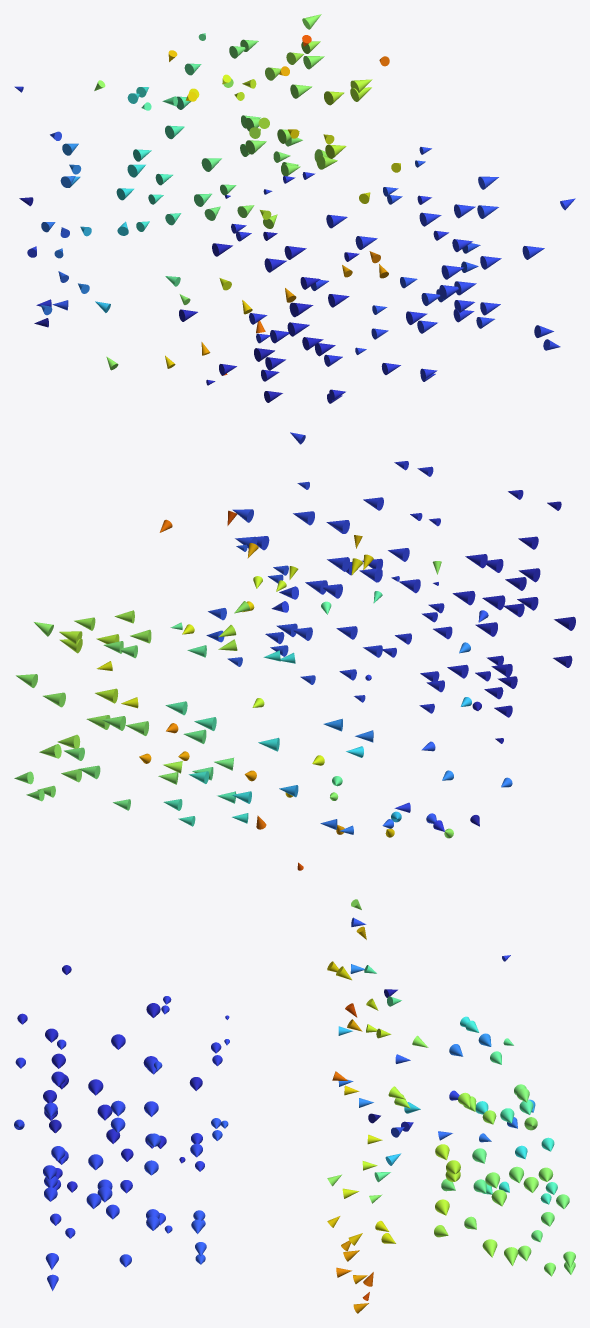
File: LineasCorrienteN2-H2O_mh2-2.70_V-0.9.glb
3 renders of one model, top to bottom at view 1: azimuth 30°, elevation 25°; view 2: azimuth 150°, elevation 25°; view 3: azimuth 270°, elevation 25°, orthographic. The views are drawn at different scales.
Bounding box in the file's own units: 0.000966 × 0.000812 × 0.0012.
Materials: 2 (2 with a texture image).
